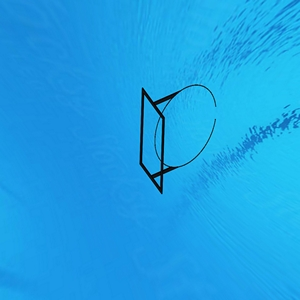circle: (135, 81, 221, 199)
